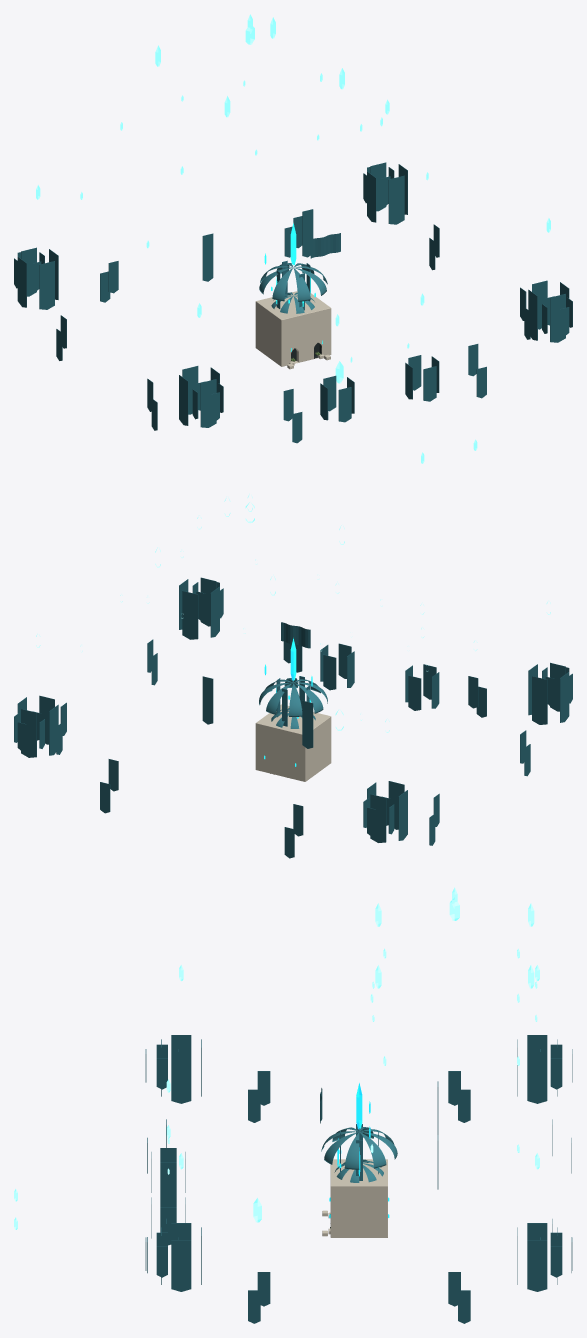
Rendered from Catalog-20.glb.
3 views of the same model, one above another, from view 1: azimuth 30°, elevation 25°; view 2: azimuth 150°, elevation 25°; view 3: azimuth 270°, elevation 25° (orthographic). The views are drawn at different scales.
Visible parts, largest first — view 1: Neris Teal Banner (×2), Ivory Limestone, Crystal Bright Facets, Teal Enamel Alternate; view 2: Neris Teal Banner (×2), Ivory Limestone, Teal Enamel Alternate, Teal Enamel Roof; view 3: Neris Teal Banner (×2), Ivory Limestone, Crystal Bright Facets, Teal Enamel Alternate.
Part boxes in pixels (<box>): Neris Teal Banner (×2): <box>14,162,572,443</box>; Ivory Limestone: <box>255,291,331,369</box>; Crystal Bright Facets: <box>36,14,550,463</box>; Teal Enamel Alternate: <box>259,263,327,301</box>; Neris Teal Banner (×2): <box>14,577,572,858</box>; Ivory Limestone: <box>255,704,331,781</box>; Teal Enamel Alternate: <box>259,678,327,716</box>; Teal Enamel Roof: <box>276,676,310,726</box>; Neris Teal Banner (×2): <box>145,1035,572,1323</box>; Ivory Limestone: <box>322,1159,387,1237</box>; Crystal Bright Facets: <box>14,887,539,1229</box>; Teal Enamel Alternate: <box>321,1127,397,1169</box>.
Size of the model in its own units: 76.38 by 58.84 by 87.9.
